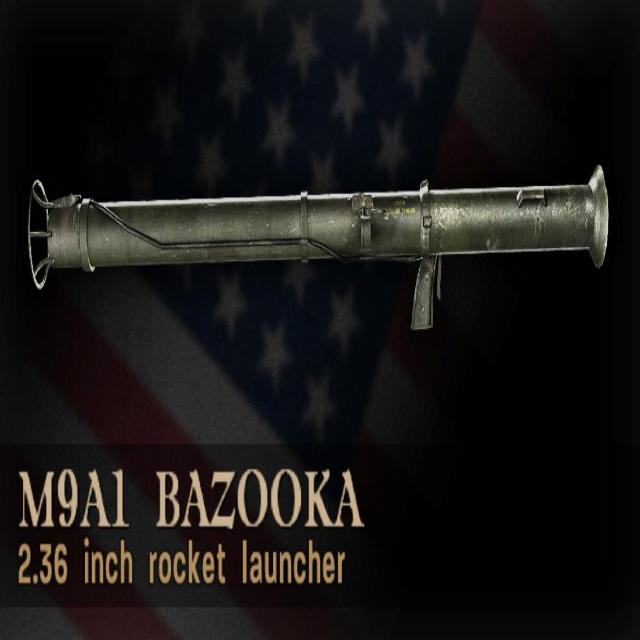weapon: (25, 166, 619, 337)
